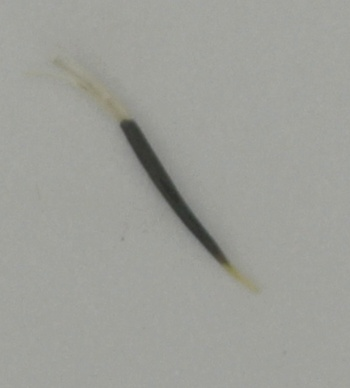เมล็ดดีเรียวยาว: (65, 65, 266, 297)
